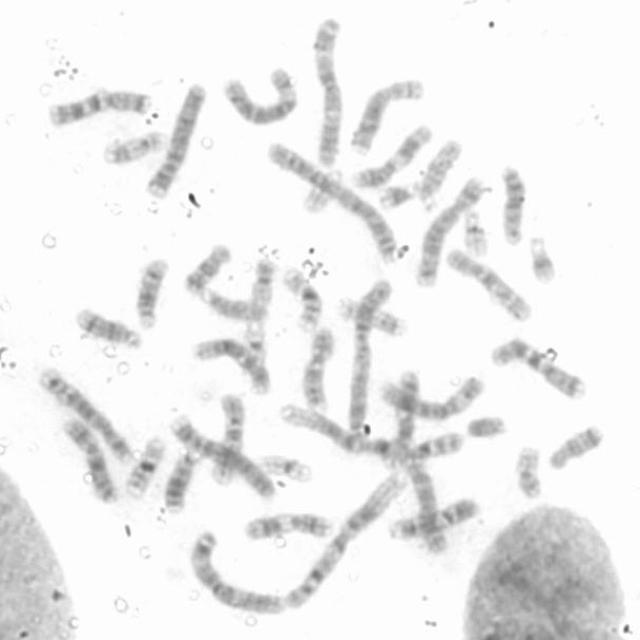A1: (284, 467, 406, 612), (276, 403, 466, 462)
A2: (265, 141, 396, 265), (347, 274, 395, 440)
A3: (186, 530, 288, 619), (310, 18, 345, 166)
B4: (168, 413, 275, 501), (144, 80, 207, 200)
B5: (32, 363, 132, 466), (412, 174, 485, 290)
C10: (443, 247, 534, 325), (208, 393, 245, 489)
C11: (348, 123, 435, 191), (243, 509, 337, 542)
C12: (191, 337, 273, 397), (375, 368, 423, 462)
C6: (222, 63, 302, 129), (378, 374, 486, 422)
C7: (490, 335, 587, 399), (48, 86, 156, 128)
C8: (347, 77, 428, 156), (402, 455, 451, 558)
C9: (384, 497, 484, 542), (301, 324, 335, 413)
D13: (163, 448, 197, 515), (500, 163, 527, 247)
D14: (74, 304, 144, 353), (134, 256, 169, 330)
D15: (418, 138, 464, 214), (199, 285, 271, 322)
E16: (124, 435, 169, 501), (282, 267, 324, 333)
E17: (336, 294, 410, 340), (99, 130, 169, 167)
E18: (546, 423, 606, 473), (181, 243, 232, 294)
F19: (239, 315, 269, 382), (259, 450, 314, 484)
F20: (515, 446, 544, 500), (249, 256, 276, 305)
G21: (528, 232, 558, 284), (376, 181, 422, 211)
G22: (301, 167, 344, 215), (462, 205, 490, 261)
X: (60, 415, 119, 507)
Y: (464, 415, 508, 440)
